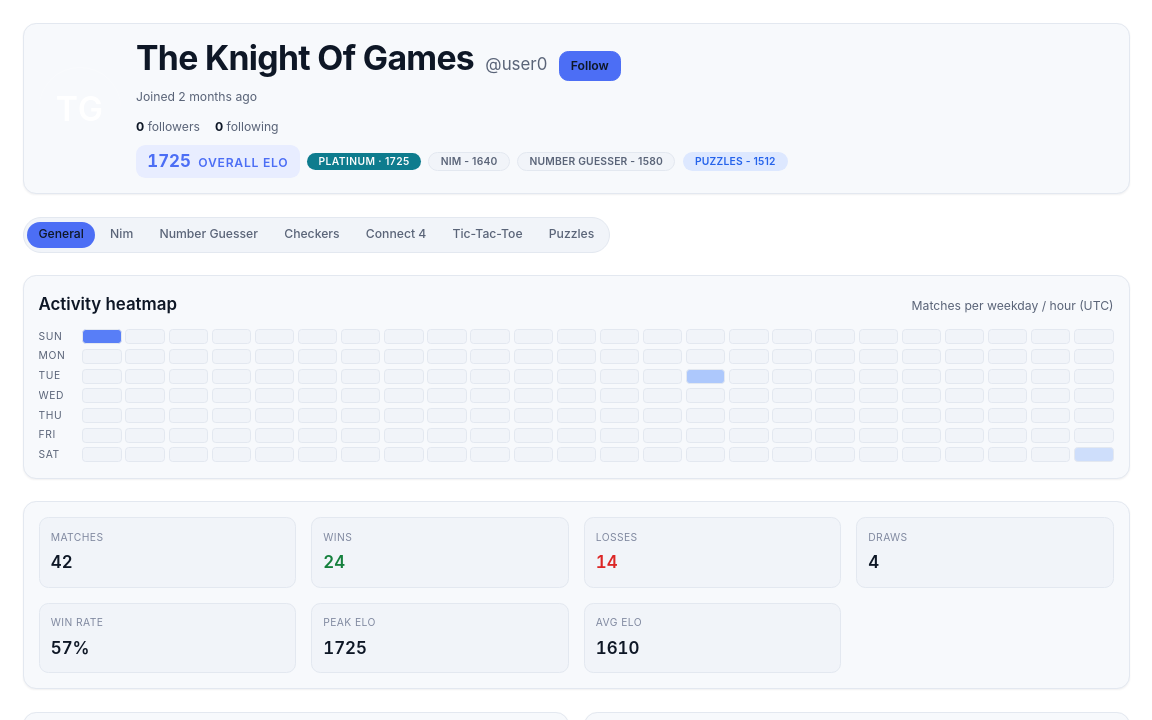
Test case: Profile page — tabs › reaches the Followers/Following lists via the count links, with no dedicated tab button
The image size is (1152, 720).
Expected: the element with test id "profile-header" is shown, [22,22,1130,194]
What coordinates should you click on to do the following:
click the button with test id "profile-followers-count"
I would click on:
 (168, 128)
Its box is [136,118,200,137].
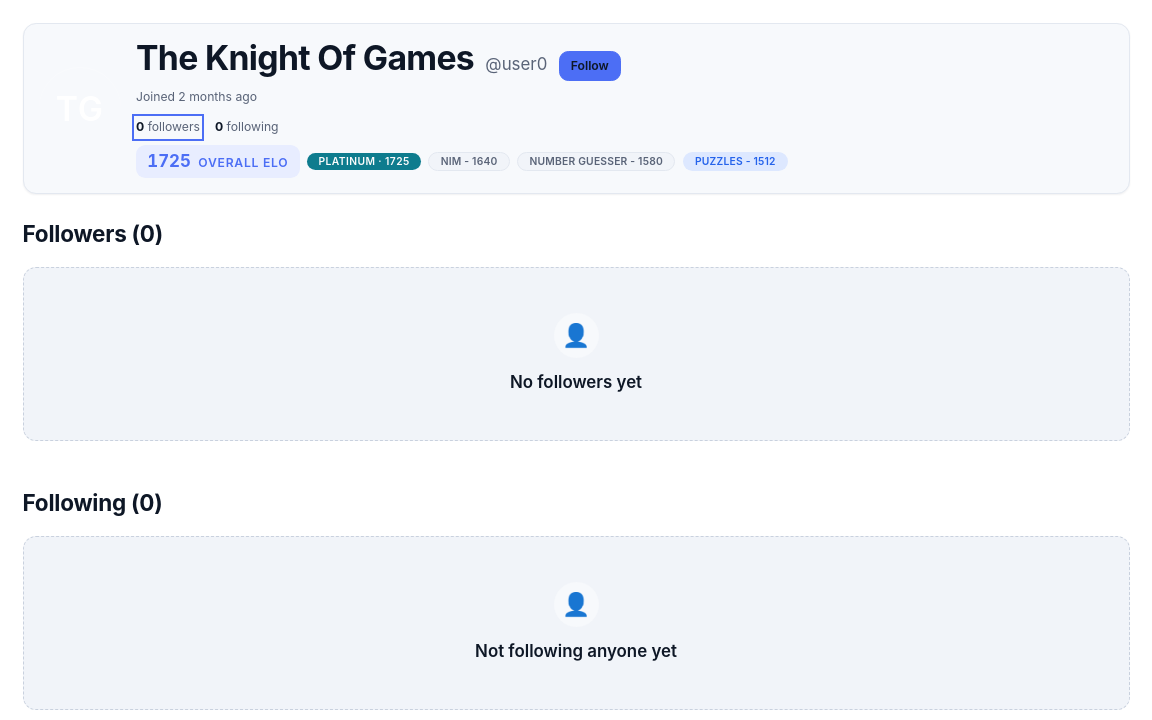
Now the element with test id "profile-followers" is shown, box [22,217,1130,441]
Now the element with test id "profile-following" is shown, box [22,486,1130,710]
